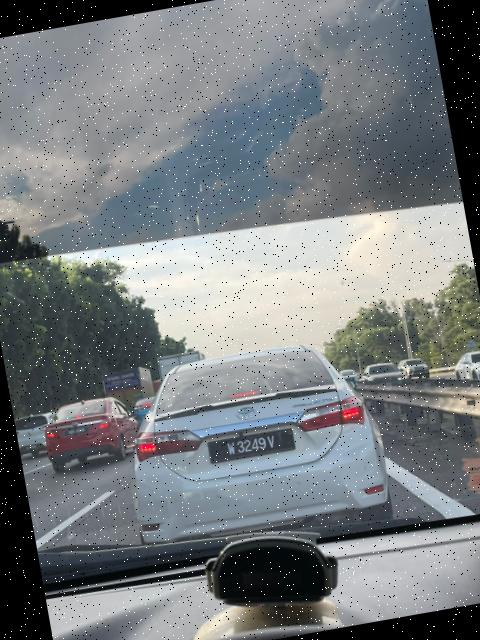License_Plate: (209, 429, 292, 468)
car: (107, 328, 401, 572), (35, 390, 137, 482)
